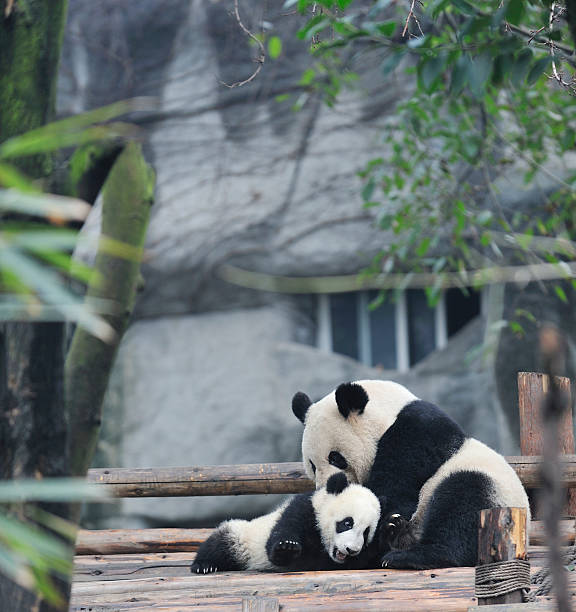panda: (286, 375, 389, 481), (297, 459, 389, 569)
